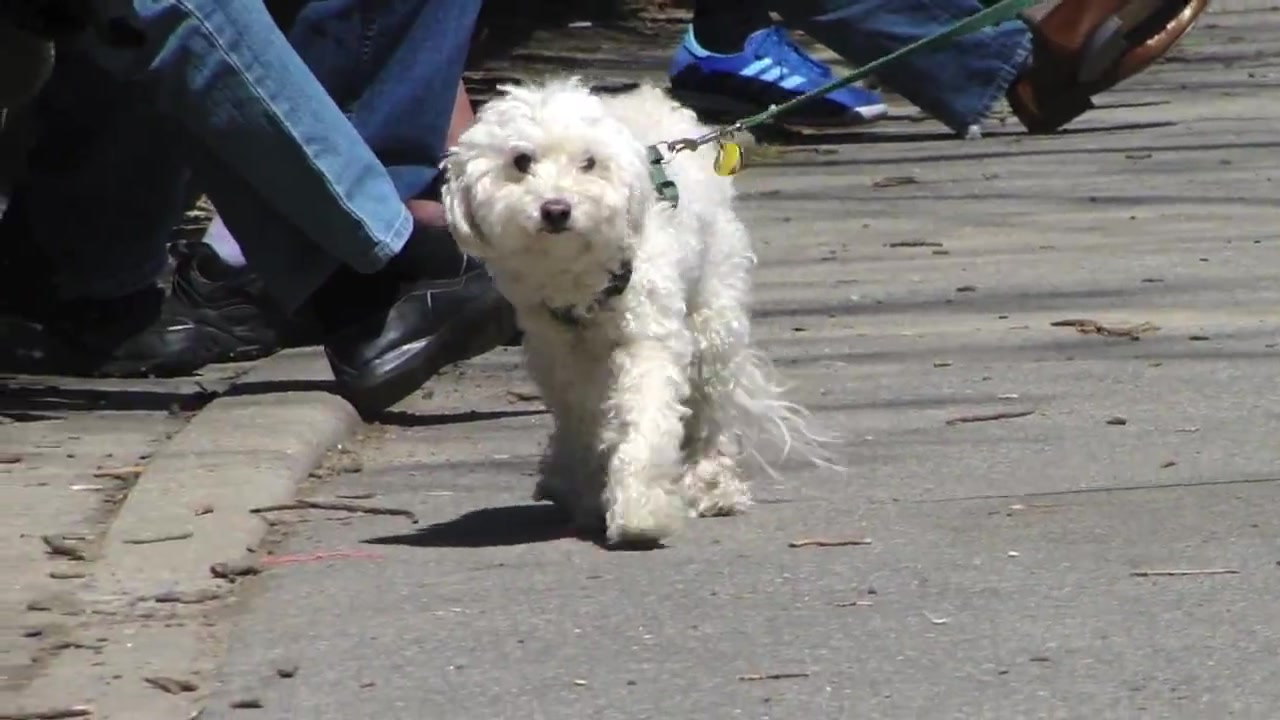dog: (440, 66, 830, 549)
